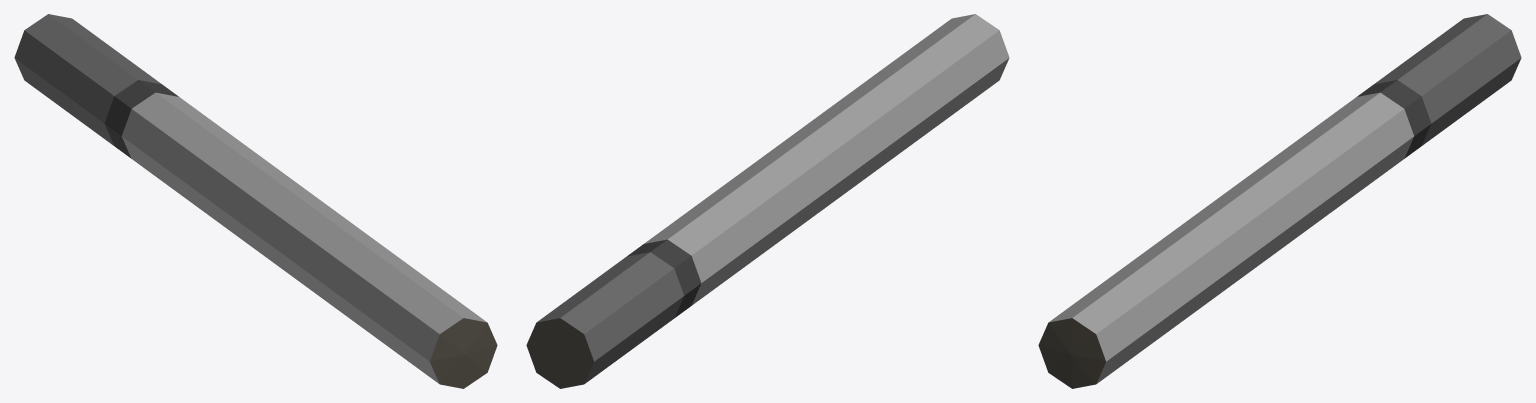
Rendered from Prop_Cigarette_01.fbx.
The picture shows the model from 3 angles, left to right: view 1: azimuth 30°, elevation 25°; view 2: azimuth 150°, elevation 25°; view 3: azimuth 330°, elevation 25°; orthographic projection.
Parts seen in each view (by area): view 1: Prop_Cigarette_01_LOD0; view 2: Prop_Cigarette_01_LOD0; view 3: Prop_Cigarette_01_LOD0.
Boxes of the visible parts, box(x1,y1,x2,y2) form: Prop_Cigarette_01_LOD0: box(14, 14, 497, 388); Prop_Cigarette_01_LOD0: box(526, 14, 1009, 388); Prop_Cigarette_01_LOD0: box(1038, 14, 1521, 388).
Size of what is drawn, in the model's own units: 1.26 by 1.26 by 13.44.
